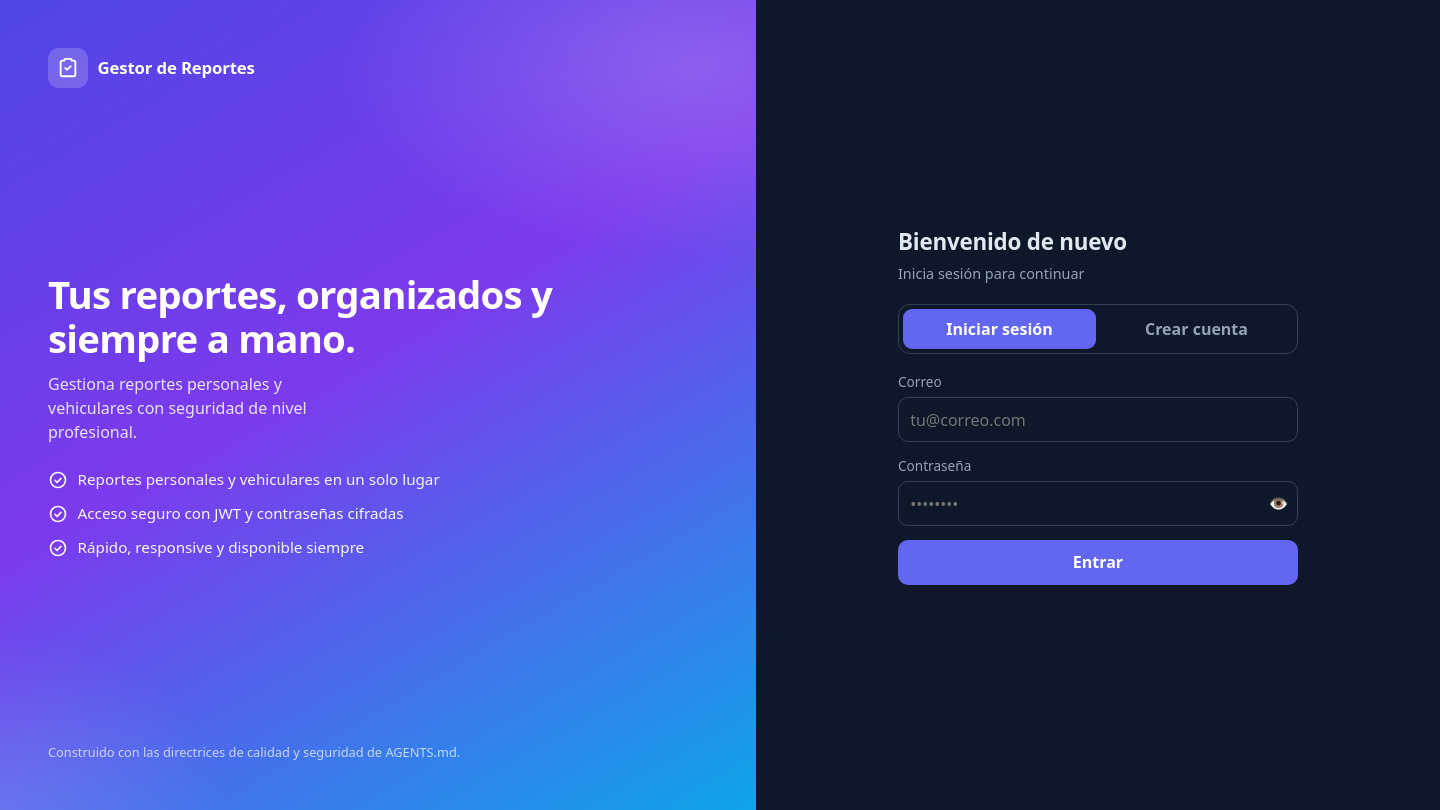
Test: AuthScreen › cambia a registro con el control segmentado
This screenshot has width=1440, height=810.
Click the tab "Crear cuenta": point(1196, 330) top-left (1100, 310), bottom-right (1293, 350)
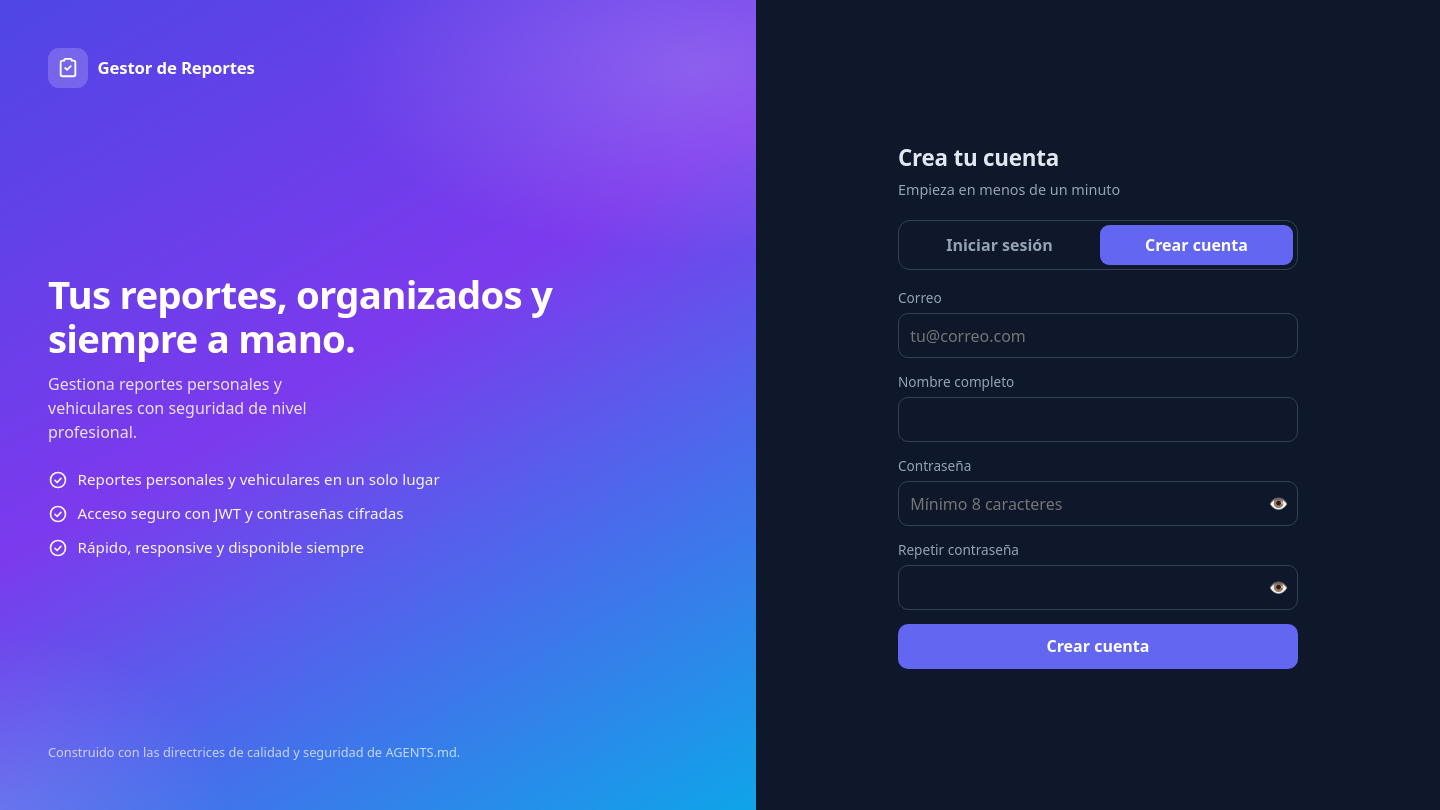
Expected: the field labelled "Nombre completo" is shown, top-left (898, 397), bottom-right (1298, 442)
